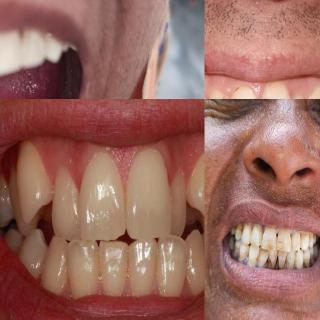calculus: (268, 252, 280, 272), (276, 253, 288, 271)
maligned: (18, 140, 56, 220), (155, 233, 191, 293), (64, 240, 100, 300), (162, 167, 192, 233), (43, 236, 67, 288), (190, 144, 204, 216), (303, 83, 320, 99), (206, 93, 230, 99)
stains: (259, 246, 269, 269), (286, 253, 296, 271), (266, 237, 276, 254), (276, 239, 288, 251), (302, 256, 312, 268), (250, 254, 260, 264), (242, 219, 250, 231), (236, 224, 244, 236), (308, 250, 316, 262), (252, 222, 260, 232), (232, 246, 240, 255), (292, 228, 302, 234), (302, 231, 310, 237), (232, 224, 238, 232)
